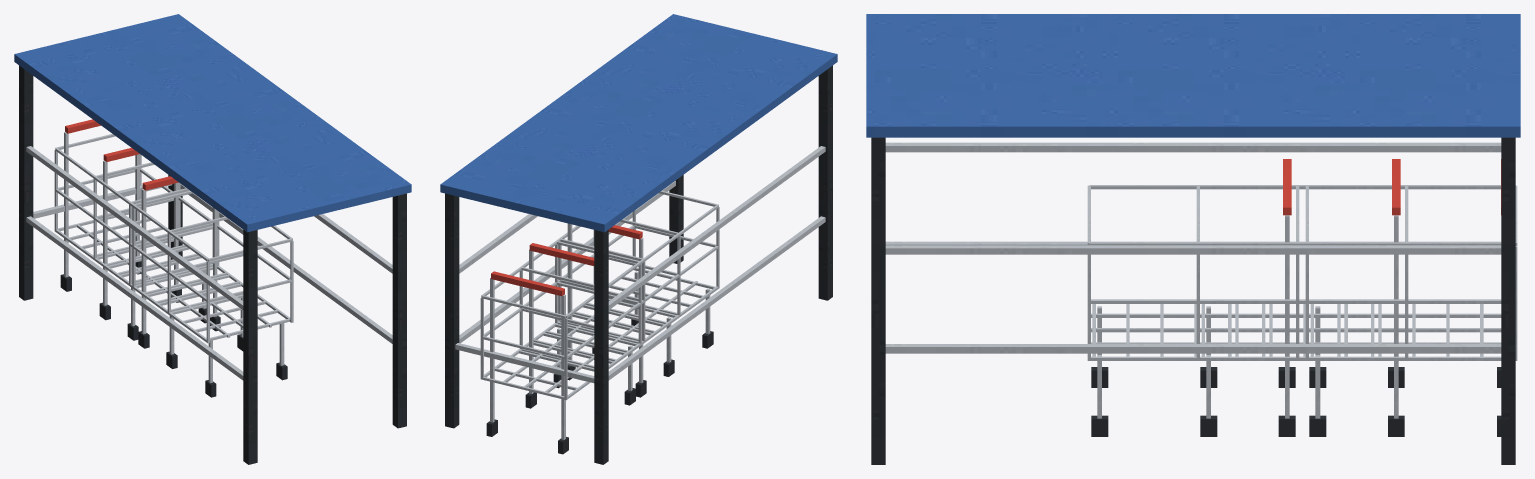
3 renders of one model, left to right at view 1: azimuth 30°, elevation 25°; view 2: azimuth 150°, elevation 25°; view 3: azimuth 270°, elevation 25°, orthographic. The views are drawn at different scales.
Parts seen in each view (by area): view 1: Decor_cart_corral; view 2: Decor_cart_corral; view 3: Decor_cart_corral.
Part boxes in pixels (left/top/right/bottom): Decor_cart_corral: left=14, top=14, right=411, bottom=464; Decor_cart_corral: left=440, top=14, right=837, bottom=464; Decor_cart_corral: left=866, top=14, right=1520, bottom=464.
Bounding box in the file's own units: 1.1 × 1.55 × 2.7.
4 materials, 4 textured.
